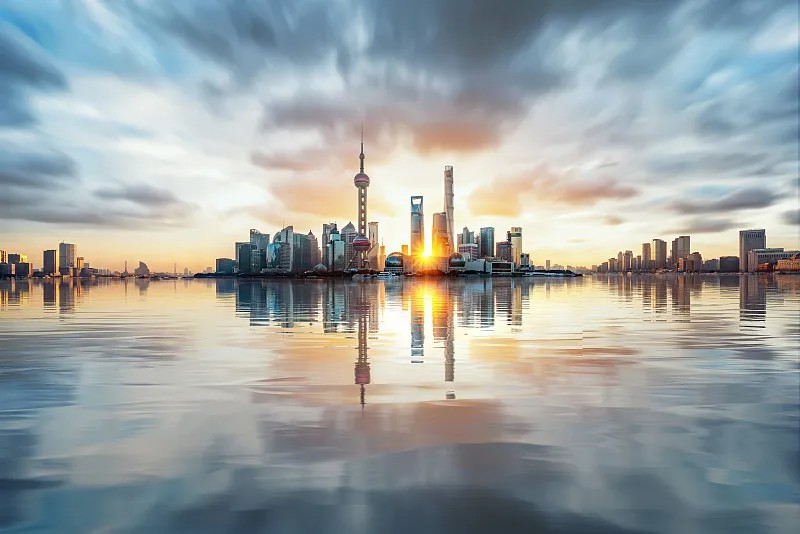Oriental: (343, 121, 373, 268)
